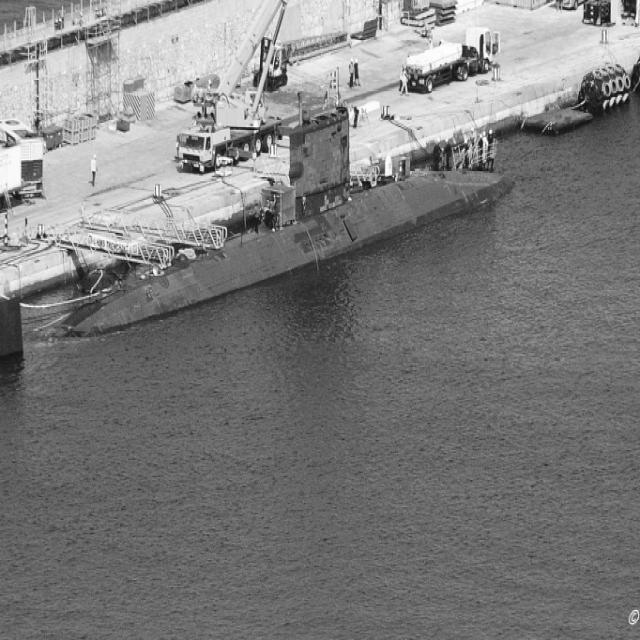submarine: (1, 104, 506, 365)
